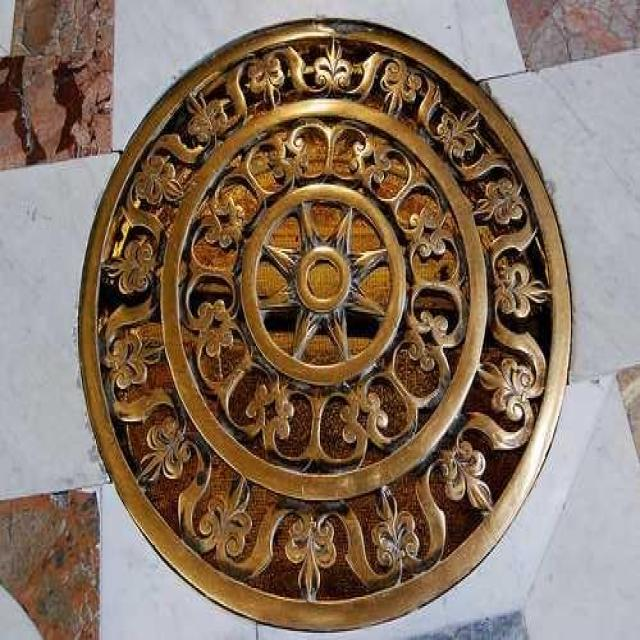manhole: (79, 19, 571, 629)
